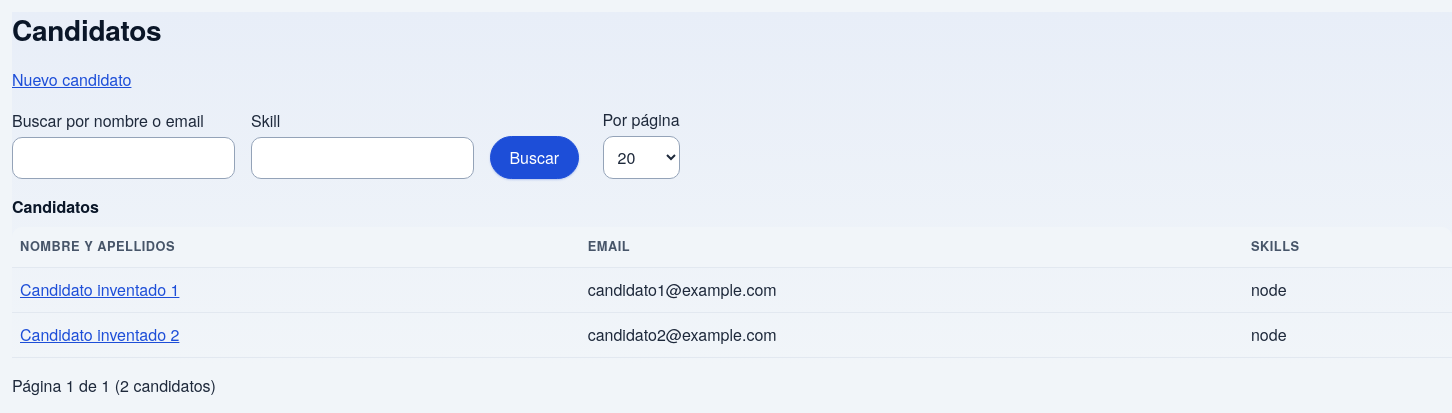
Test: CandidateListScreen · estados y tabla › CA-18 vacío con filtros muestra «Ningún candidato coincide con la búsqueda.»
expect the table "Candidatos" is shown: met, box [12,195,1451,358]
Type "zzz" into the search field labelled "Buscar por nombre o email".
click(124, 158); type("zzz")  # box [12,137,235,179]
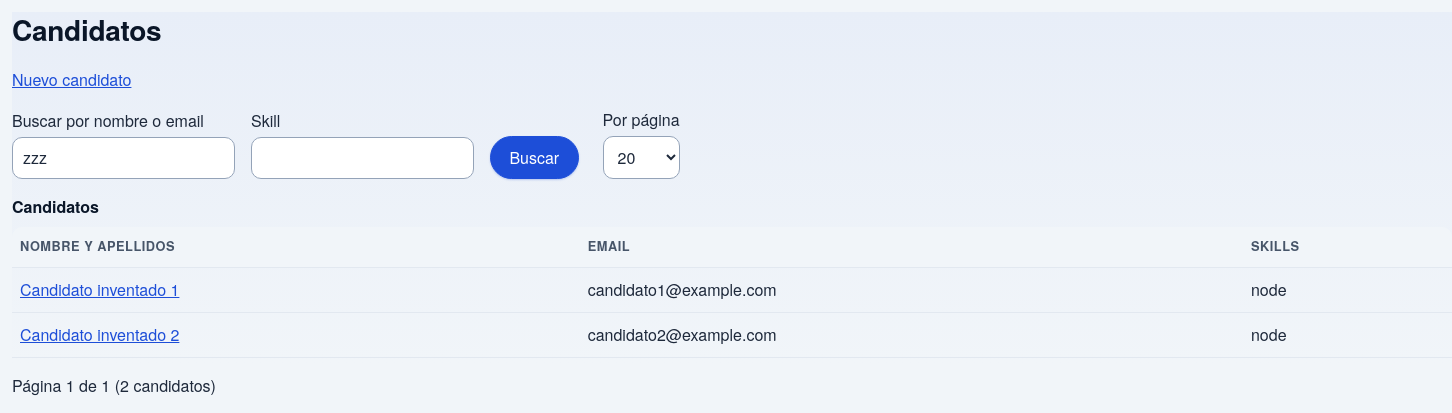
Click the button "Buscar".
click(534, 158)  # box [490,136,579,179]
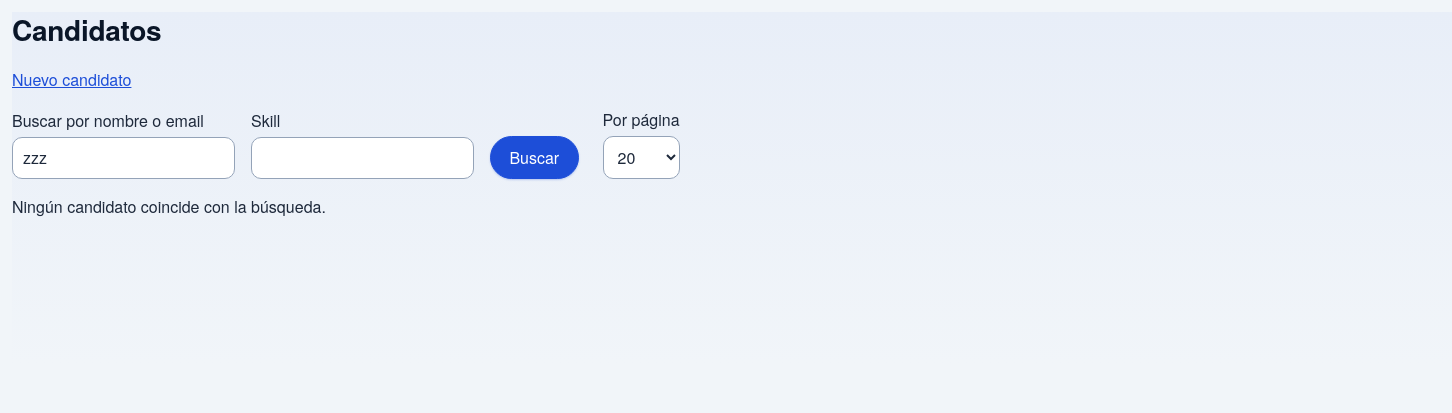
expect the text "Ningún candidato coincide con la búsqueda." is shown: met, box [12,195,326,218]
